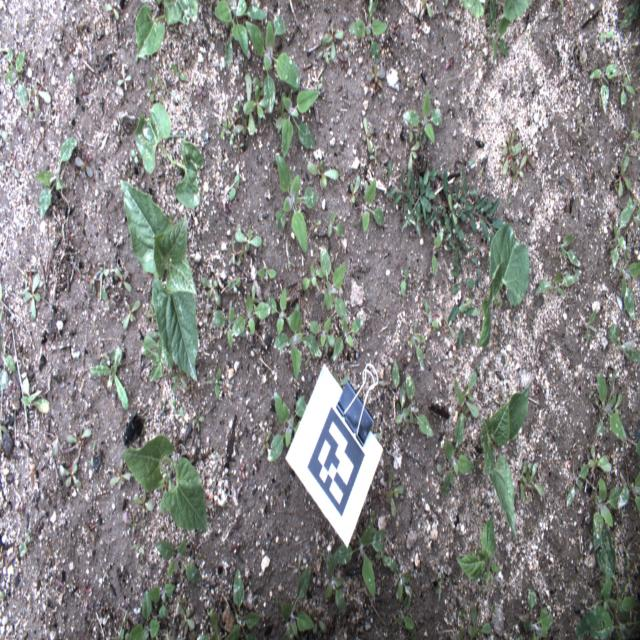crop: (121, 181, 201, 382), (134, 99, 212, 213), (124, 434, 210, 535), (481, 378, 530, 538), (474, 220, 529, 347), (131, 0, 202, 61), (454, 513, 504, 586)
weed: (388, 157, 500, 293), (248, 15, 323, 154), (574, 531, 640, 639), (266, 284, 325, 390), (458, 0, 532, 63), (320, 245, 360, 359), (274, 154, 317, 253), (390, 351, 438, 437), (33, 134, 80, 220), (336, 524, 385, 603), (438, 413, 480, 504), (263, 385, 307, 471), (218, 75, 266, 150), (120, 579, 181, 637), (536, 234, 585, 301), (212, 0, 264, 63), (403, 96, 446, 167), (565, 444, 613, 507), (152, 535, 203, 590), (445, 264, 477, 351), (596, 361, 628, 446), (591, 482, 631, 550), (347, 2, 393, 61), (90, 344, 131, 409), (280, 565, 318, 631), (232, 284, 271, 344), (227, 564, 260, 632), (609, 200, 637, 274), (312, 13, 350, 66), (383, 461, 413, 527), (355, 174, 387, 234), (526, 580, 559, 637), (504, 127, 532, 186), (207, 296, 234, 353), (3, 50, 29, 108), (325, 551, 346, 621), (586, 60, 614, 112), (18, 373, 52, 415), (616, 261, 638, 325), (21, 262, 45, 319), (385, 556, 415, 598), (142, 327, 166, 379), (520, 453, 549, 496), (306, 161, 341, 196), (456, 368, 481, 417), (464, 599, 494, 637), (28, 76, 48, 128), (407, 324, 426, 378), (0, 348, 18, 404), (616, 150, 636, 200), (229, 229, 265, 255), (92, 266, 112, 308), (616, 70, 636, 112), (109, 448, 131, 486), (170, 374, 188, 420), (5, 128, 20, 183), (423, 295, 441, 337), (360, 120, 379, 158), (201, 272, 222, 306), (67, 425, 94, 450), (326, 210, 347, 242), (200, 603, 219, 638), (580, 309, 597, 348), (301, 260, 321, 292), (176, 606, 196, 638), (59, 459, 81, 488), (394, 599, 416, 628), (133, 493, 154, 523), (73, 150, 95, 178), (422, 5, 450, 26), (224, 168, 241, 202), (125, 296, 142, 329), (114, 264, 134, 292), (17, 524, 33, 559), (211, 366, 227, 401), (399, 264, 412, 306), (116, 61, 134, 91), (190, 400, 206, 433), (256, 261, 280, 280), (621, 4, 638, 30), (349, 171, 362, 203), (144, 74, 161, 98), (170, 62, 190, 81), (599, 22, 616, 44), (105, 3, 121, 25), (622, 342, 638, 364), (576, 114, 588, 138), (230, 274, 242, 294), (608, 318, 618, 341)
